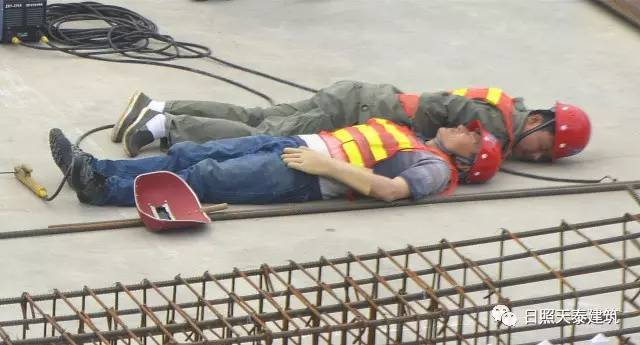fall: (74, 74, 570, 157)
